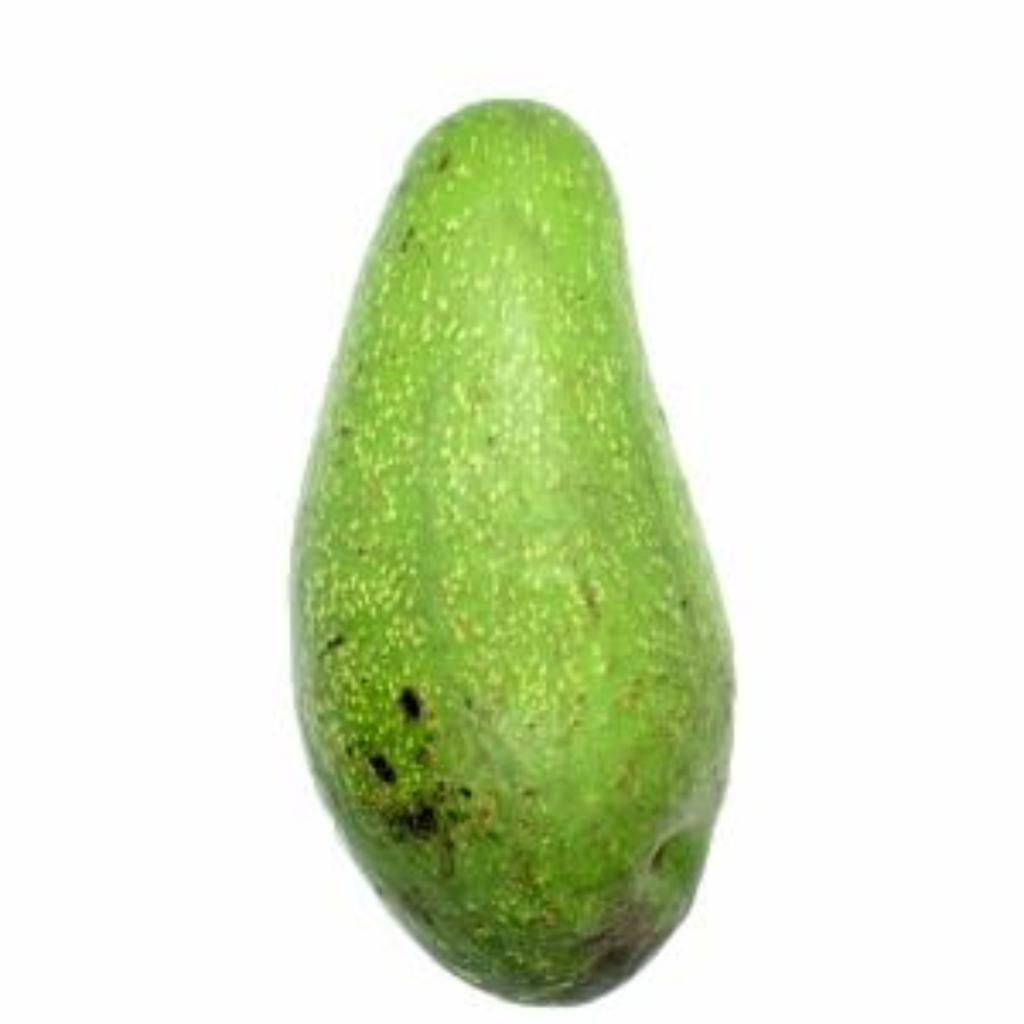cercospora: (261, 55, 763, 1018)
